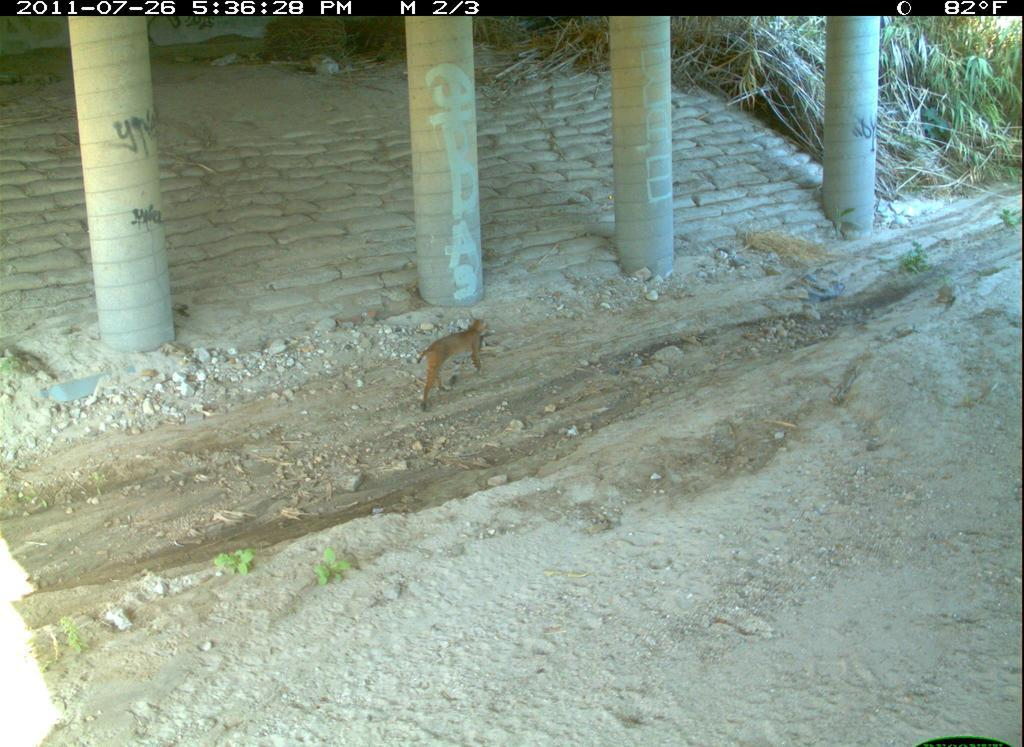bobcat: (833, 617, 992, 747)
